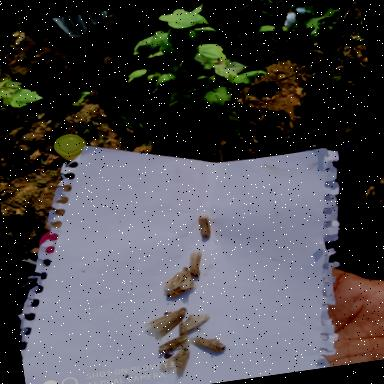abw: (144, 302, 192, 338), (189, 328, 231, 359), (172, 309, 214, 337), (160, 346, 193, 380), (160, 263, 196, 293), (184, 247, 214, 279), (188, 212, 216, 242), (156, 335, 189, 353), (163, 284, 196, 298)
